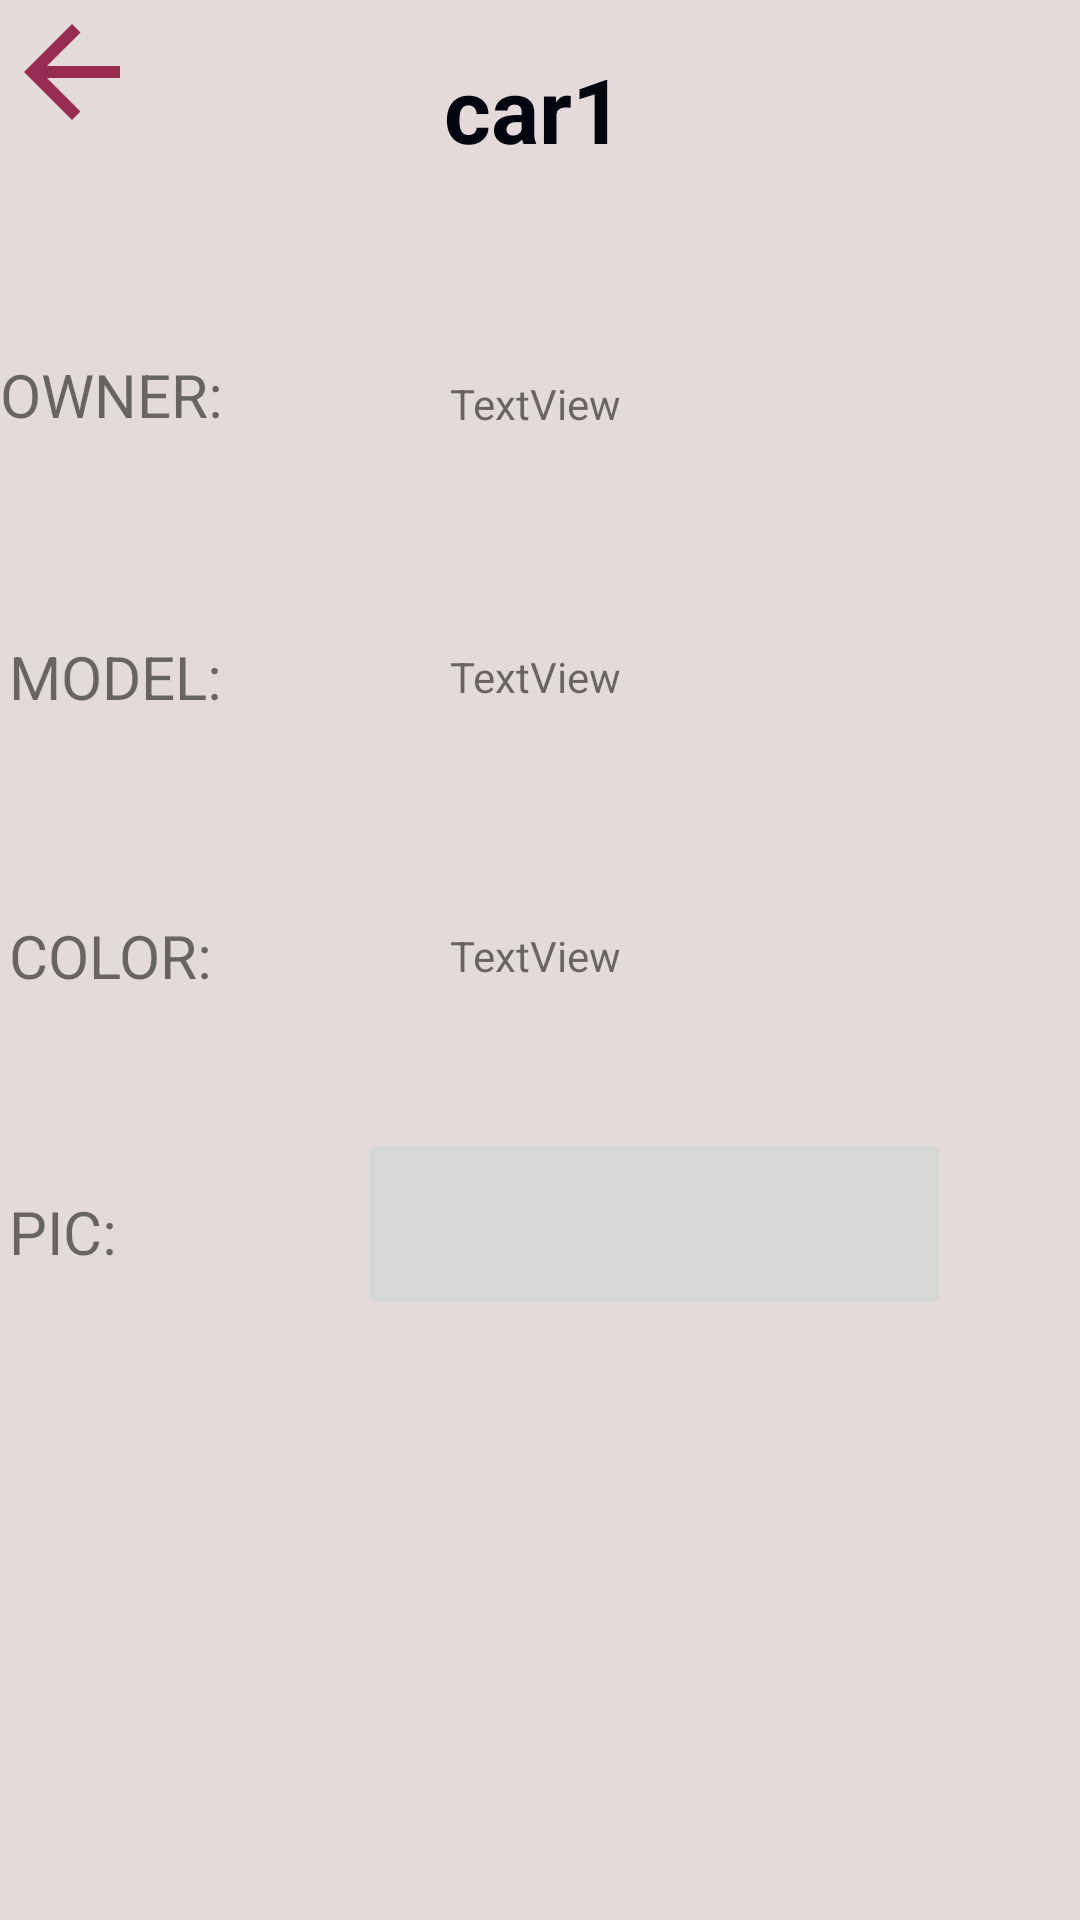

Screen size 1080x1920. Icon name, then its center in pixels as [x,y]:
back arrow: [72,72]
